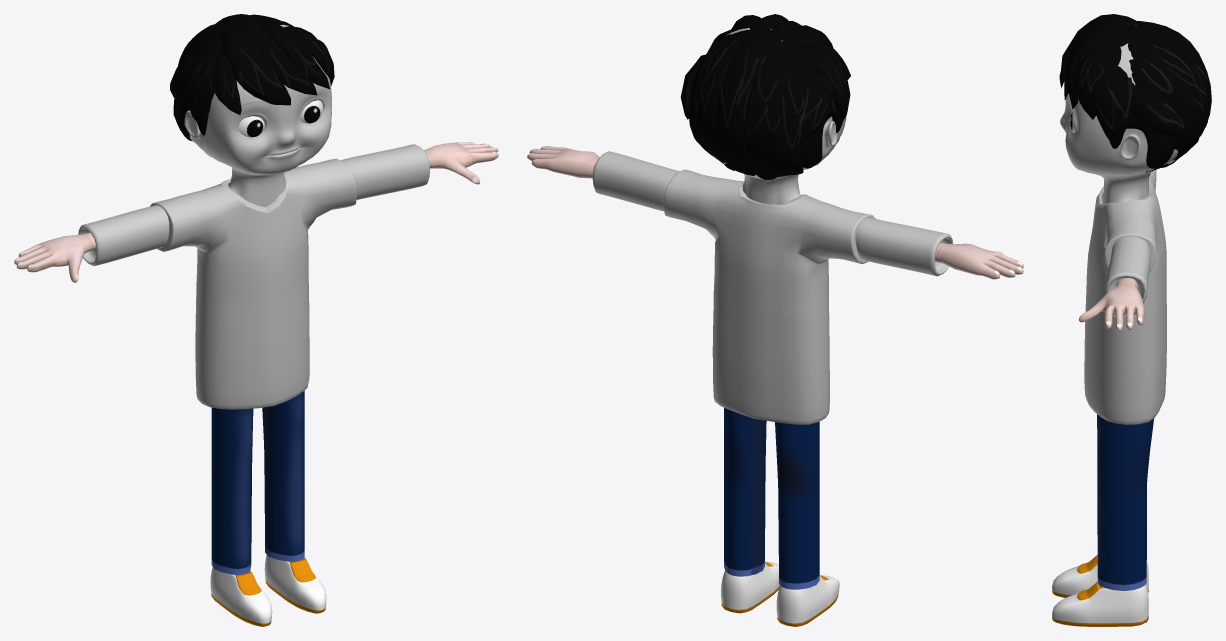
Rendered from Aiman (Shoes).fbx.
3 renders of one model, left to right at view 1: azimuth 30°, elevation 25°; view 2: azimuth 150°, elevation 25°; view 3: azimuth 270°, elevation 25°, orthographic. The views are drawn at different scales.
Visible parts, largest first — view 1: Shirt, Pants, Head14, polySurface8, R_shoe, L_shoe, R_hand3, L_hand1, polySurface12, polySurface14, polySurface13, polySurface9 (+1 smaller); view 2: Shirt, Pants, polySurface2, polySurface3, polySurface6, polySurface1, R_shoe, R_hand3, L_shoe, Head14, L_hand1, polySurface19 (+4 smaller); view 3: Shirt, Pants, Head14, L_shoe, polySurface4, polySurface11, polySurface1, L_hand1, polySurface10, polySurface17, polySurface2, R_shoe (+6 smaller).
Part boxes in pixels (<box>): Shirt: <box>78,144,430,409</box>; Pants: <box>211,391,304,574</box>; Head14: <box>184,56,331,207</box>; polySurface8: <box>221,29,290,105</box>; R_shoe: <box>210,567,272,626</box>; L_shoe: <box>264,555,326,613</box>; R_hand3: <box>14,232,96,282</box>; L_hand1: <box>424,142,498,184</box>; polySurface12: <box>186,42,222,122</box>; polySurface14: <box>243,26,317,95</box>; polySurface13: <box>259,22,329,89</box>; polySurface9: <box>213,52,241,114</box>; Shirt: <box>592,151,953,424</box>; Pants: <box>724,407,819,589</box>; polySurface2: <box>715,29,781,175</box>; polySurface3: <box>744,39,813,179</box>; polySurface6: <box>769,64,818,176</box>; polySurface1: <box>696,29,754,170</box>; R_shoe: <box>776,575,839,626</box>; R_hand3: <box>935,242,1023,279</box>; L_shoe: <box>721,561,780,613</box>; Head14: <box>742,116,846,204</box>; L_hand1: <box>527,146,599,178</box>; polySurface19: <box>797,74,831,142</box>; Shirt: <box>1084,169,1166,424</box>; Pants: <box>1097,414,1153,590</box>; Head14: <box>1060,83,1153,203</box>; L_shoe: <box>1052,582,1148,626</box>; polySurface4: <box>1129,59,1202,172</box>; polySurface11: <box>1091,66,1134,141</box>; polySurface1: <box>1128,38,1209,167</box>; L_hand1: <box>1078,278,1144,331</box>; polySurface10: <box>1074,43,1121,119</box>; polySurface17: <box>1131,87,1186,137</box>; polySurface2: <box>1123,26,1211,117</box>; R_shoe: <box>1052,555,1148,597</box>.
Size of the model in its own units: 12.16 by 13.82 by 3.44.
